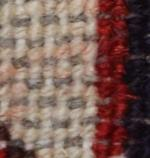Knot: (104, 46, 121, 59), (124, 85, 139, 97), (124, 129, 139, 141), (97, 106, 109, 118), (121, 62, 134, 73), (111, 145, 122, 156), (97, 66, 109, 76), (100, 96, 111, 106), (142, 138, 148, 148), (142, 147, 148, 156)
